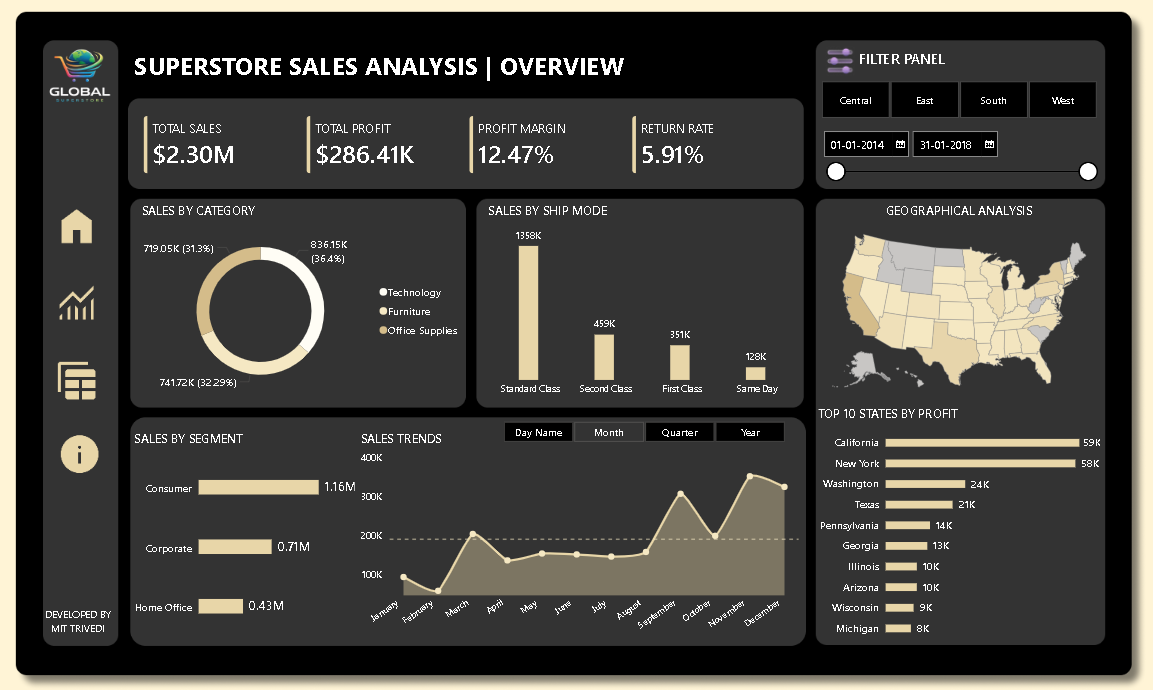

Layout of this report page (visuals, bound fields, positions):
{"tool":"powerbi","page":{"name":"OVERVIEW","canvas":[1600,1000],"ordinal":0},"visuals":[{"type":"textbox","box":[200,94.3,677.1,60],"z":0},{"type":"cardVisual","fields":{"Data":["ALL MEASURES.TOTAL SALES","ALL MEASURES.TOTAL PROFIT","ALL MEASURES.PROFIT MARGIN","ALL MEASURES.RETURN RATE"]},"box":[200,171.7,891.7,110],"z":1000},{"type":"donutChart","title":"SALES BY CATEGORY","fields":{"Y":["Sum(Orders.Sales)"],"Category":["Product.Category"]},"box":[211.7,303.3,435,266.7],"z":2000},{"type":"lineChart","title":"SALES TRENDS","fields":{"Category":["Order_Date.Month"],"Y":["Sum(Orders.Sales)"]},"box":[502,604,590,284],"z":3000},{"type":"shapeMap","title":"GEOGRAPHICAL ANALYSIS","fields":{"Category":["Customer.State"],"Value":["Sum(Orders.Sales)"]},"box":[1108.3,303.3,383.3,266.7],"z":4000},{"type":"clusteredBarChart","title":"TOP 10 STATES BY PROFIT","fields":{"Y":["Sum(Orders.Profit)"],"Category":["Customer.State"]},"box":[1108.3,570,383.3,318.3],"z":5000},{"type":"clusteredBarChart","title":"SALES BY SEGMENT","fields":{"Category":["Customer.Segment"],"Y":["Sum(Orders.Sales)"]},"box":[200,604,302,284],"z":6000},{"type":"columnChart","title":"SALES BY SHIP MODE","fields":{"Category":["Orders.Ship Mode"],"Y":["Sum(Orders.Sales)"]},"box":[670,303.3,421.7,266.7],"z":7000},{"type":"textbox","box":[1162,94,128,42],"z":8000},{"type":"image","box":[1122,96,40,40],"z":9000},{"type":"slicer","fields":{"Values":["Orders.Region"]},"box":[1092,136,414,62],"z":10000},{"type":"slicer","fields":{"Values":["Order_Date.Date"]},"box":[1108,198,384,84],"z":11000},{"type":"slicer","fields":{"Values":["MAT1.MAT1"]},"box":[670,586,422,38],"z":12000},{"type":"image","box":[100,406,60,60],"z":13000},{"type":"image","box":[100,304,60,60],"z":14000},{"type":"image","box":[100,510,60,60],"z":15000},{"type":"image","box":[68,54,132,172],"z":16000},{"type":"textbox","box":[56,834,150,54],"z":17000},{"type":"image","box":[104,606,60,60],"z":18000}]}

Visuals, with their boxes on the page's 1600x1000 design canvas (x1, y1, x2, y2). These are canvas units, not pixel positions in the 1153x690 screenshot, which may show the page scaled, cropped or inside an application window:
textbox: 200/94/877/154
cardVisual - ALL MEASURES.TOTAL SALES x ALL MEASURES.TOTAL PROFIT: 200/172/1092/282
"SALES BY CATEGORY" donutChart: 212/303/647/570
"SALES TRENDS" lineChart: 502/604/1092/888
"GEOGRAPHICAL ANALYSIS" shapeMap: 1108/303/1492/570
"TOP 10 STATES BY PROFIT" clusteredBarChart: 1108/570/1492/888
"SALES BY SEGMENT" clusteredBarChart: 200/604/502/888
"SALES BY SHIP MODE" columnChart: 670/303/1092/570
textbox: 1162/94/1290/136
image: 1122/96/1162/136
slicer - Orders.Region: 1092/136/1506/198
slicer - Order_Date.Date: 1108/198/1492/282
slicer - MAT1.MAT1: 670/586/1092/624
image: 100/406/160/466
image: 100/304/160/364
image: 100/510/160/570
image: 68/54/200/226
textbox: 56/834/206/888
image: 104/606/164/666
